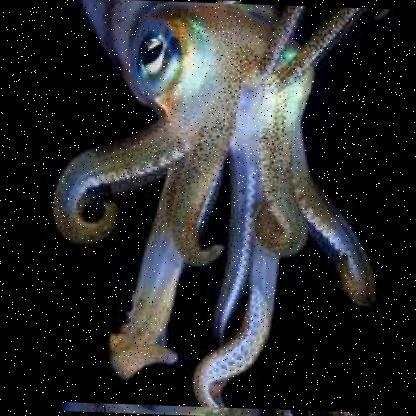colossal_squid: (30, 0, 396, 414)
